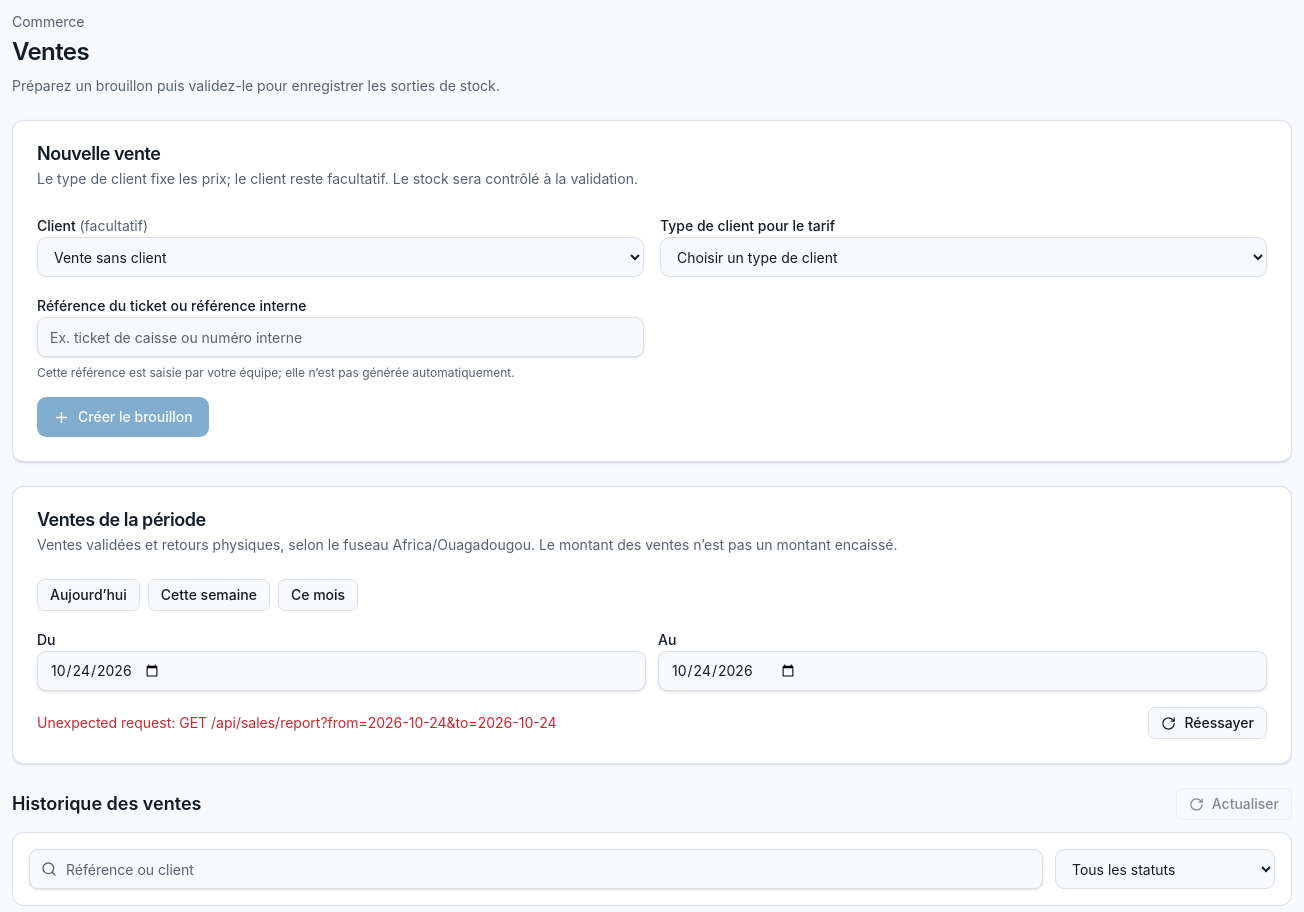
Test case: parcours métier frontend › crée une vente avec client facultatif et ouvre le brouillon
Select "Particulier" in the dropdown labelled "Type de client pour le tarif" at (964, 257), box [660,237,1267,277]
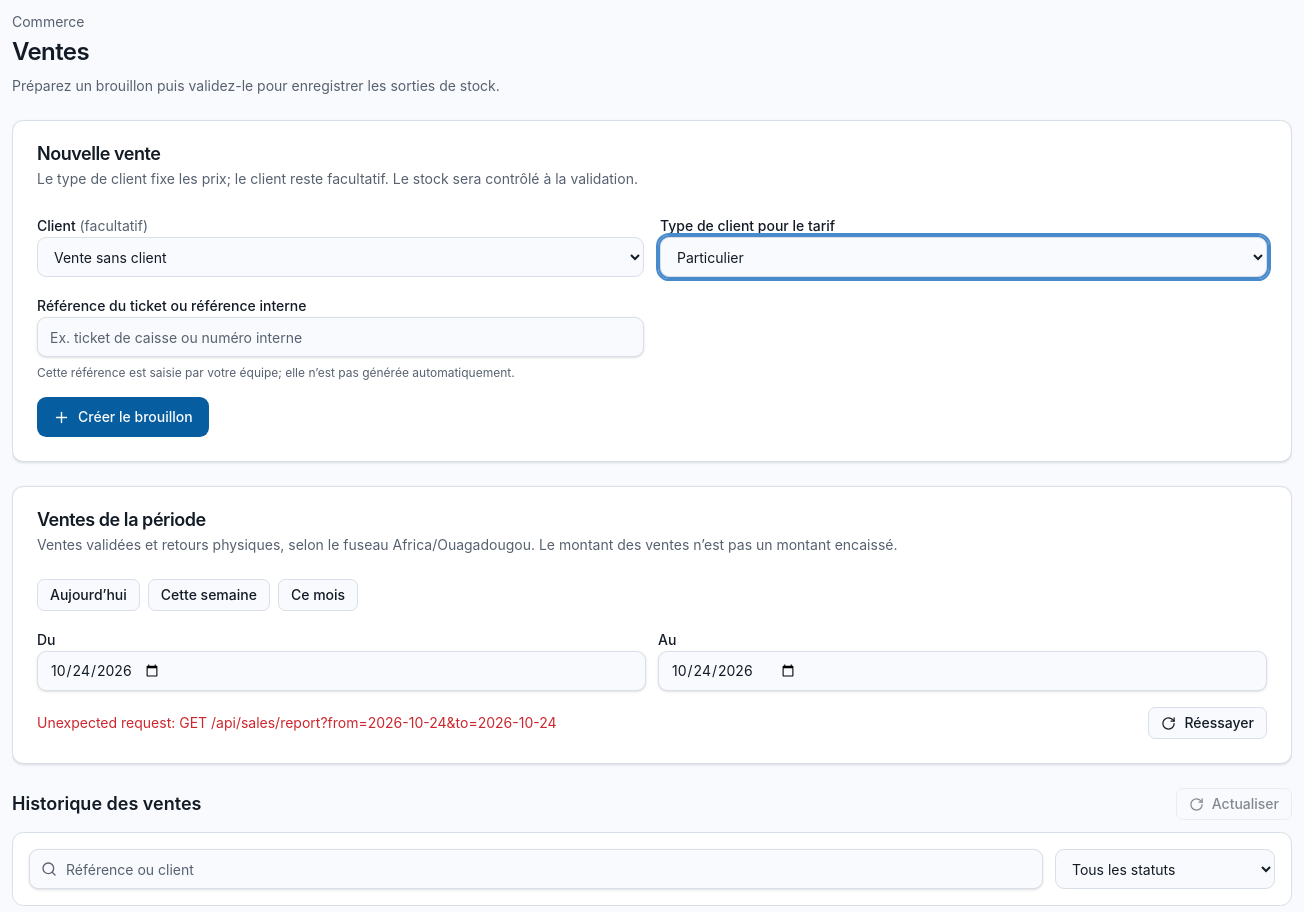
Type "TICKET-12" into the field labelled "Référence du ticket ou référence interne" at (340, 337), box [37,317,644,357]
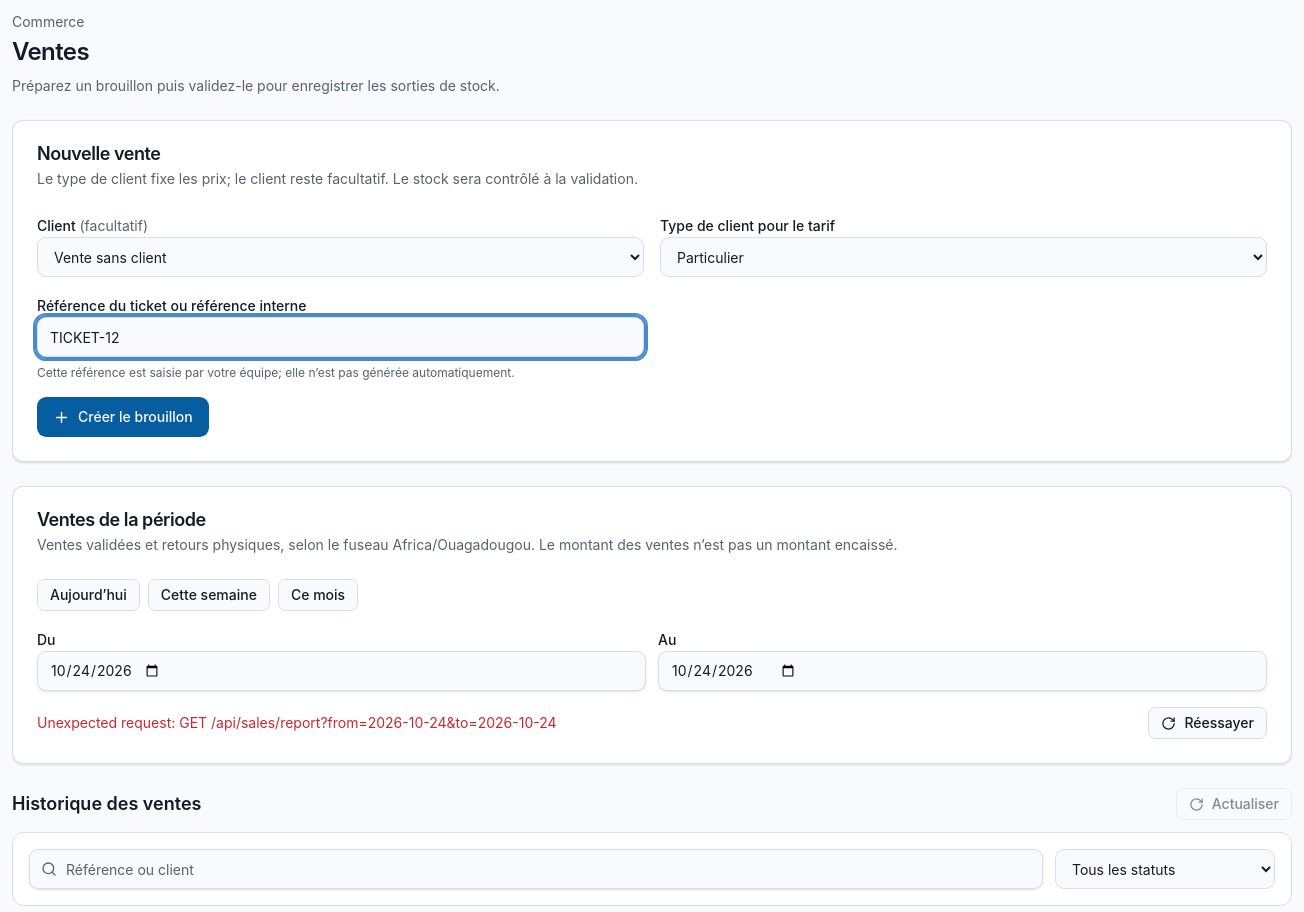
Click the button "Créer le brouillon" at (123, 417), box [37,397,209,437]
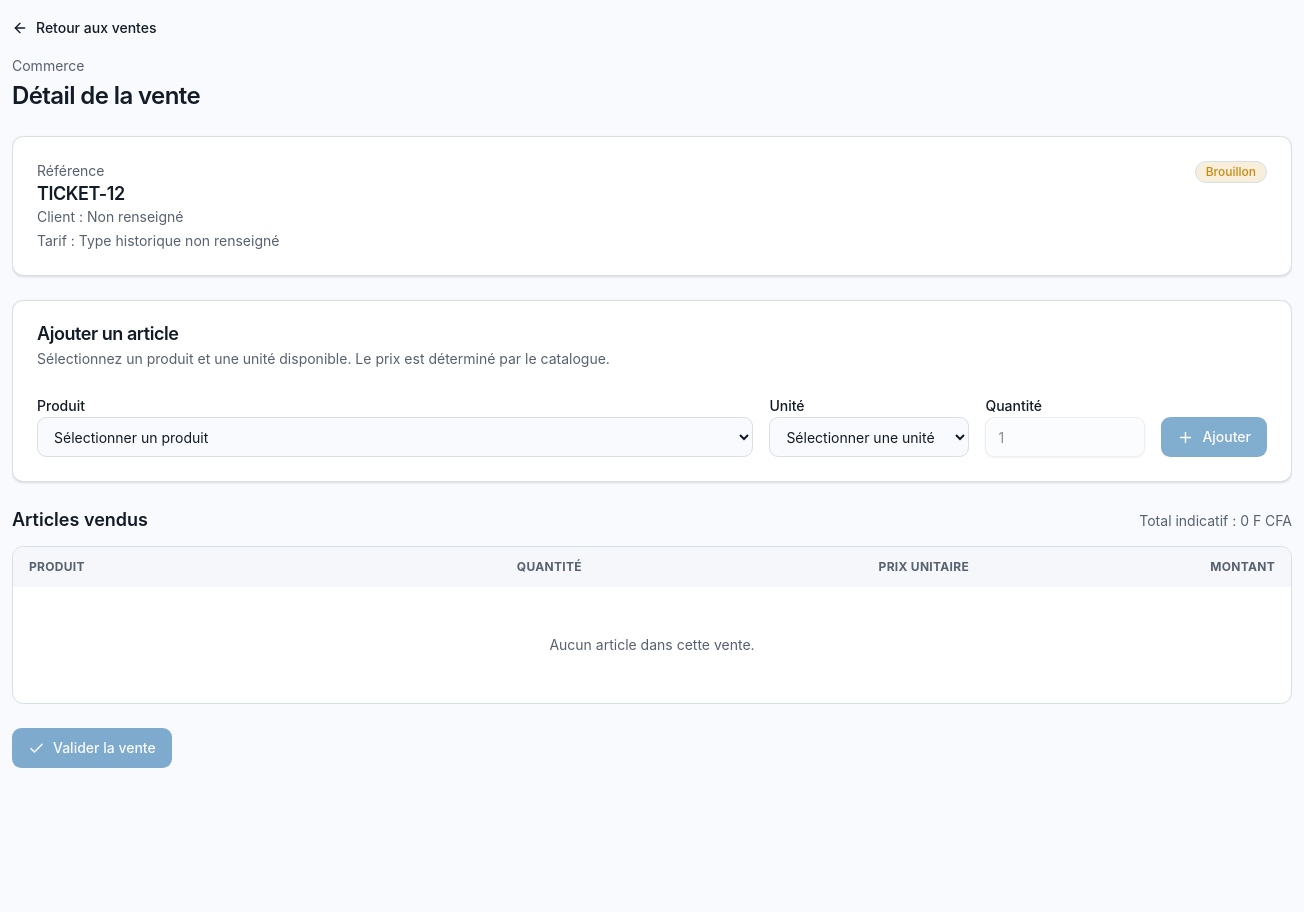
Now the heading "TICKET-12" is shown, box [37,183,125,204]
